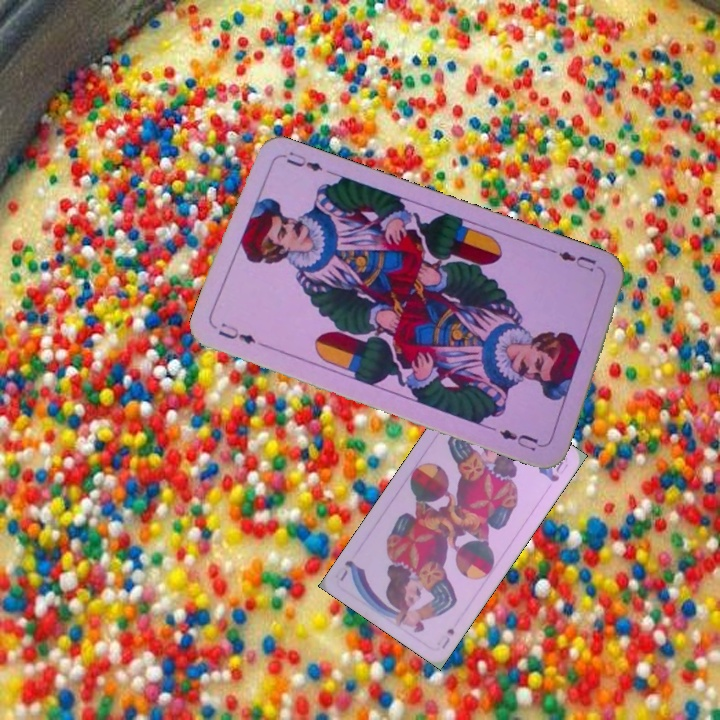EU: (214, 319, 270, 351), (548, 247, 605, 275)
SU: (438, 624, 457, 651)
